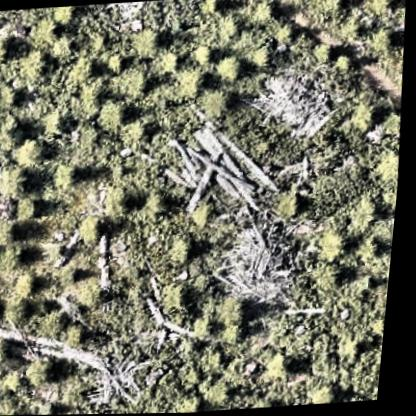tree-top: (13, 17, 60, 68), (11, 43, 57, 85), (216, 292, 257, 333), (103, 183, 144, 224), (112, 60, 155, 99), (70, 267, 111, 307), (164, 230, 203, 270), (194, 83, 235, 121), (171, 62, 210, 100), (10, 135, 50, 172), (161, 276, 199, 314), (24, 12, 62, 50), (95, 93, 132, 132), (9, 269, 52, 302), (273, 185, 310, 223), (126, 24, 165, 60), (361, 20, 400, 56), (312, 261, 351, 297), (319, 227, 355, 265), (30, 353, 70, 387), (0, 158, 33, 199), (207, 373, 244, 408), (337, 328, 372, 364), (379, 162, 403, 214), (212, 50, 248, 84), (77, 211, 111, 247), (263, 349, 299, 382), (353, 101, 386, 135), (41, 305, 74, 338), (191, 382, 227, 412), (357, 233, 389, 265), (201, 344, 234, 375), (310, 381, 350, 406), (79, 85, 111, 116), (14, 193, 45, 224), (0, 387, 33, 416), (151, 46, 182, 76), (52, 161, 83, 191), (0, 241, 27, 275), (5, 298, 40, 324), (242, 0, 275, 27), (48, 107, 77, 137), (0, 331, 21, 370), (379, 106, 405, 137), (359, 0, 399, 20), (188, 39, 216, 66), (182, 388, 212, 413), (73, 56, 103, 81), (150, 188, 177, 215), (304, 0, 343, 18), (308, 38, 333, 63), (69, 326, 97, 348), (49, 6, 79, 25), (201, 0, 226, 20), (0, 30, 13, 68), (270, 0, 308, 8), (0, 286, 7, 327)
